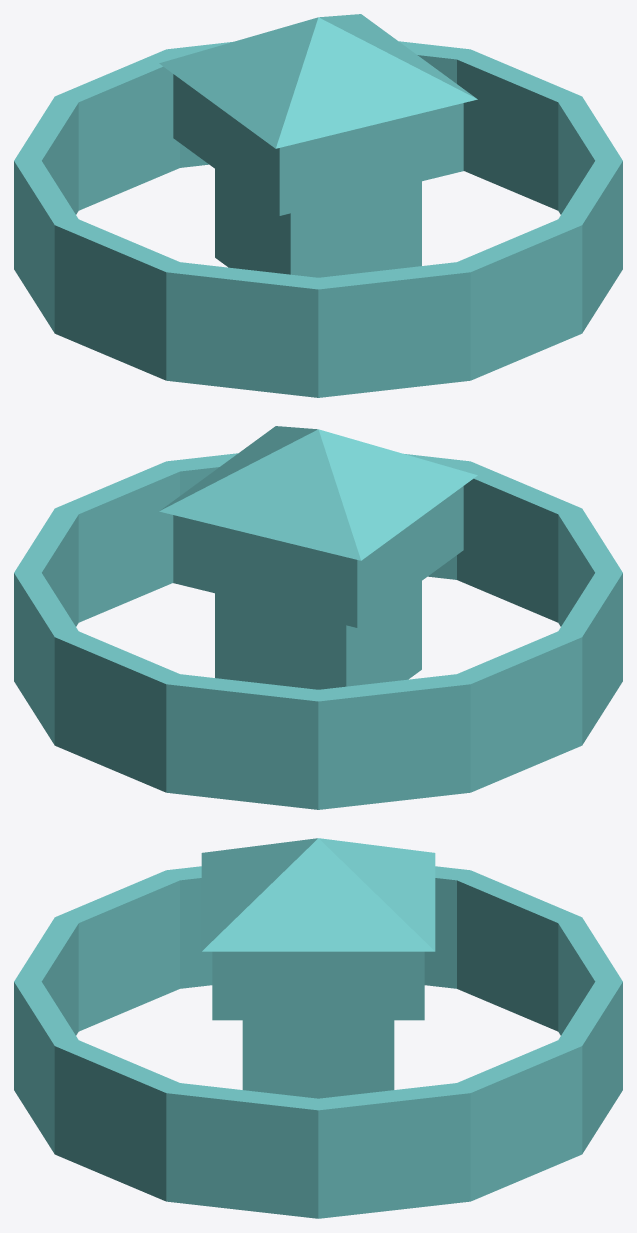
File: outpost.fbx
3 views of the same model, one above another, from view 1: azimuth 30°, elevation 25°; view 2: azimuth 150°, elevation 25°; view 3: azimuth 270°, elevation 25° (orthographic).
Visible parts, largest first — view 1: Cube; view 2: Cube; view 3: Cube.
Boxes of the visible parts, x1,y1,x2,y2 form: Cube: (14,14,622,397); Cube: (14,426,622,809); Cube: (14,838,622,1218).
Bounding box in the file's own units: 6.02 × 2.75 × 6.02.
